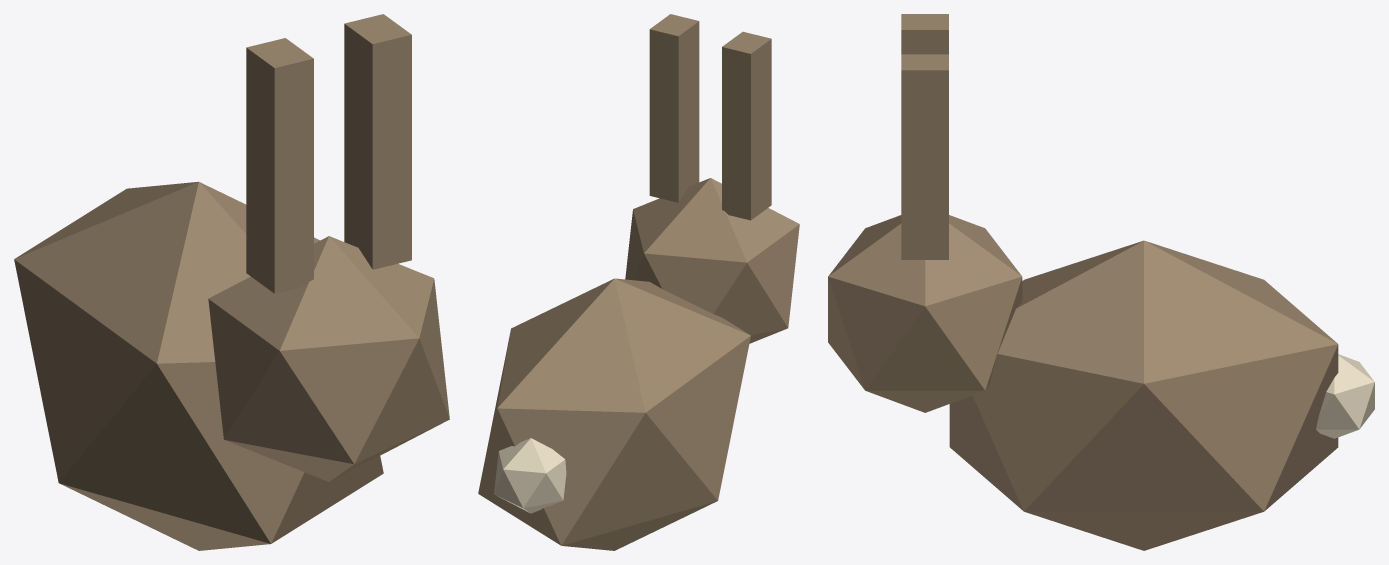
The model's file is rabbit.obj.
3 views of the same model, side by side, from view 1: azimuth 30°, elevation 25°; view 2: azimuth 150°, elevation 25°; view 3: azimuth 270°, elevation 25° (orthographic). The views are drawn at different scales.
Parts seen in each view (by area): view 1: rabbit; view 2: rabbit; view 3: rabbit.
Part boxes in pixels (left/top/right/bottom): rabbit: left=14, top=14, right=449, bottom=550; rabbit: left=478, top=14, right=799, bottom=550; rabbit: left=828, top=14, right=1374, bottom=550.
Bounding box in the file's own units: 0.2862 × 0.59 × 0.5746.
